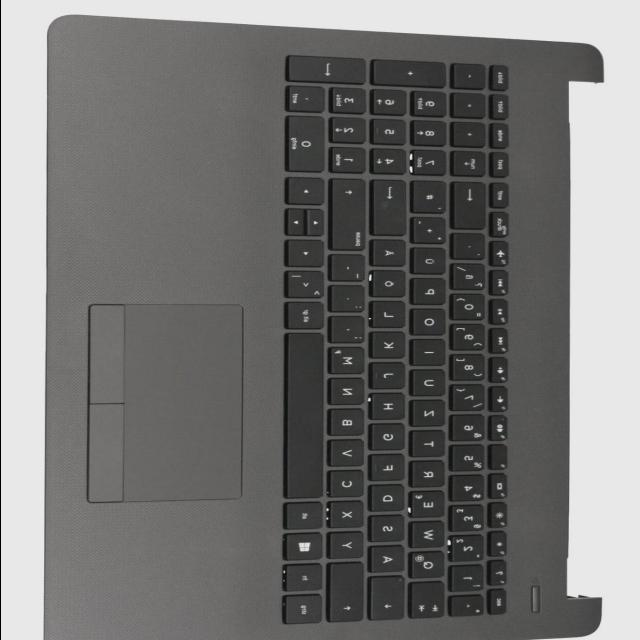0: (453, 295, 489, 323)
1: (451, 567, 487, 594)
2: (453, 536, 487, 564)
3: (452, 507, 488, 535)
4: (451, 477, 487, 504)
5: (453, 446, 487, 474)
6: (452, 416, 488, 444)
7: (452, 386, 488, 413)
8: (452, 356, 488, 384)
9: (452, 325, 488, 353)
a: (371, 547, 407, 575)
accent: (453, 235, 489, 263)
ae: (372, 241, 410, 269)
alt-left: (285, 504, 325, 532)
altgr-right: (288, 304, 328, 332)
b: (331, 410, 367, 438)
c: (331, 472, 367, 500)
caret: (452, 597, 486, 618)
comma: (332, 318, 368, 346)
d: (371, 486, 407, 514)
del: (454, 184, 490, 232)
e: (411, 493, 449, 521)
enter: (374, 181, 410, 238)
f: (372, 456, 408, 484)
g: (371, 425, 409, 453)
h: (372, 395, 408, 423)
hash: (413, 182, 449, 216)
i: (413, 341, 449, 369)
j: (372, 364, 410, 391)
k: (372, 333, 410, 361)
keyboard: (272, 48, 519, 636)
l: (372, 303, 410, 331)
less: (286, 272, 326, 301)
m: (331, 349, 369, 377)
minus: (332, 256, 368, 284)
n: (330, 380, 368, 408)
o: (413, 310, 449, 338)
oe: (372, 272, 410, 300)
p: (413, 280, 449, 307)
plus: (414, 219, 450, 247)
point: (331, 287, 367, 315)
q: (412, 553, 448, 582)
r: (412, 462, 448, 490)
s: (371, 517, 407, 545)
shift-left: (330, 564, 368, 624)
shift-lock: (371, 578, 409, 623)
shift-right: (332, 181, 370, 253)
space: (286, 334, 327, 502)
ss: (453, 266, 489, 293)
strg-left: (285, 596, 325, 627)
t: (413, 432, 449, 459)
tab: (412, 584, 448, 621)
u: (413, 371, 449, 399)
ue: (414, 249, 450, 277)
v: (331, 441, 367, 469)
w: (412, 523, 448, 551)
x: (331, 503, 367, 531)
y: (331, 533, 367, 561)
z: (413, 401, 449, 429)
